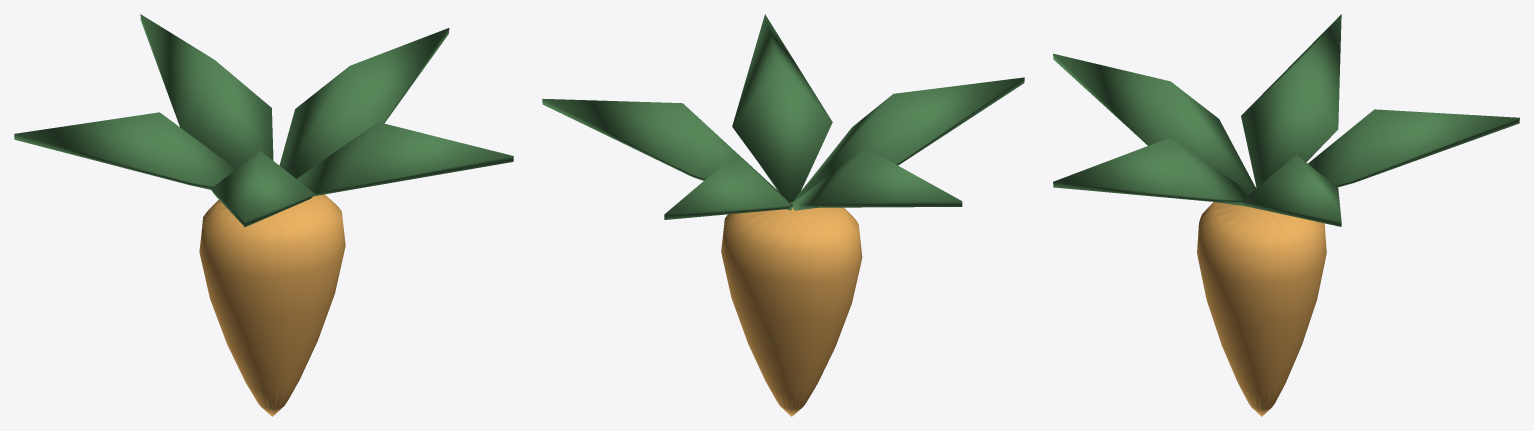
The model's file is produce_carrot.glb.
3 renders of one model, left to right at view 1: azimuth 30°, elevation 25°; view 2: azimuth 150°, elevation 25°; view 3: azimuth 270°, elevation 25°, orthographic. The views are drawn at different scales.
Visible parts, largest first — view 1: produce_carrot_crafted_mesh; view 2: produce_carrot_crafted_mesh; view 3: produce_carrot_crafted_mesh.
Boxes of the visible parts, x1=… form: produce_carrot_crafted_mesh: x1=14, y1=14, x2=513, y2=416; produce_carrot_crafted_mesh: x1=542, y1=14, x2=1024, y2=416; produce_carrot_crafted_mesh: x1=1053, y1=14, x2=1519, y2=416.
Bounding box in the file's own units: 0.9306 × 0.6434 × 0.8851.
